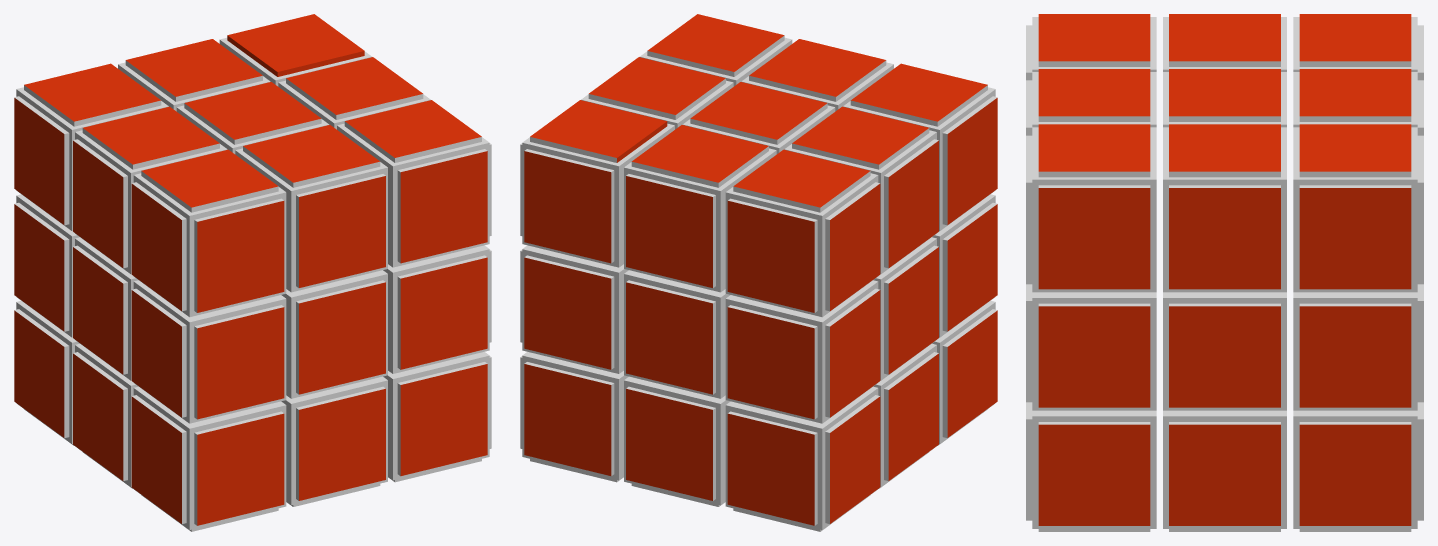
File: Red_Rubix.fbx
3 renders of one model, left to right at view 1: azimuth 30°, elevation 25°; view 2: azimuth 150°, elevation 25°; view 3: azimuth 270°, elevation 25°, orthographic. The views are drawn at different scales.
Visible parts, largest first — view 1: Cube.036; view 2: Cube.036; view 3: Cube.036.
Boxes of the visible parts, x1,y1,x2,y2 form: Cube.036: (14,14,491,531); Cube.036: (520,14,997,531); Cube.036: (1026,14,1423,531).
Size of the model in its own units: 640 by 640 by 640.
